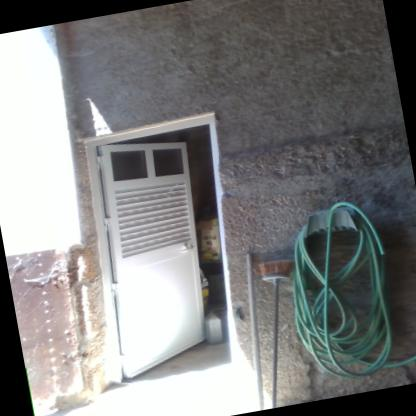semi: (71, 111, 257, 388)
